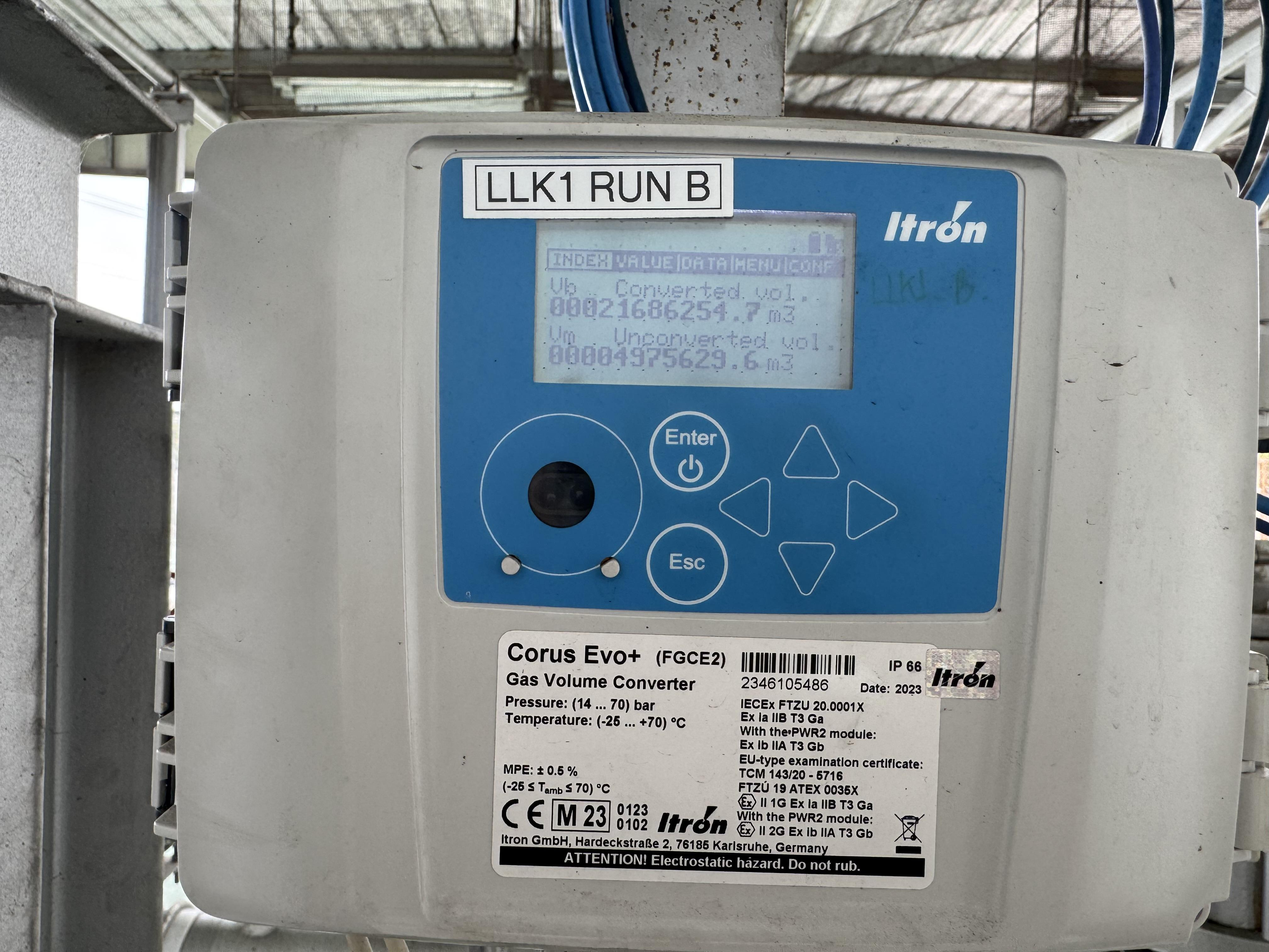digital_screen: (532, 204, 856, 389)
